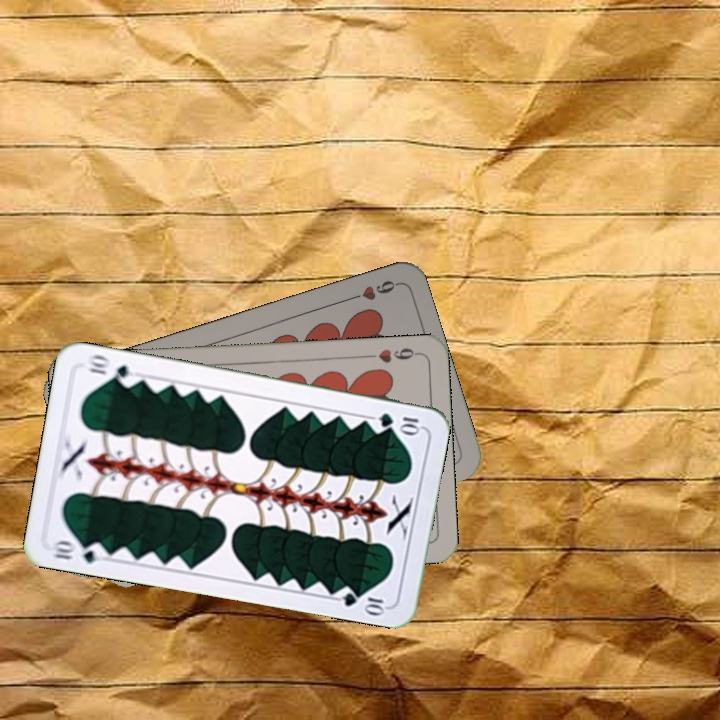G10: (48, 536, 108, 566), (375, 409, 424, 435)
H9: (343, 276, 401, 304), (363, 343, 422, 366)
